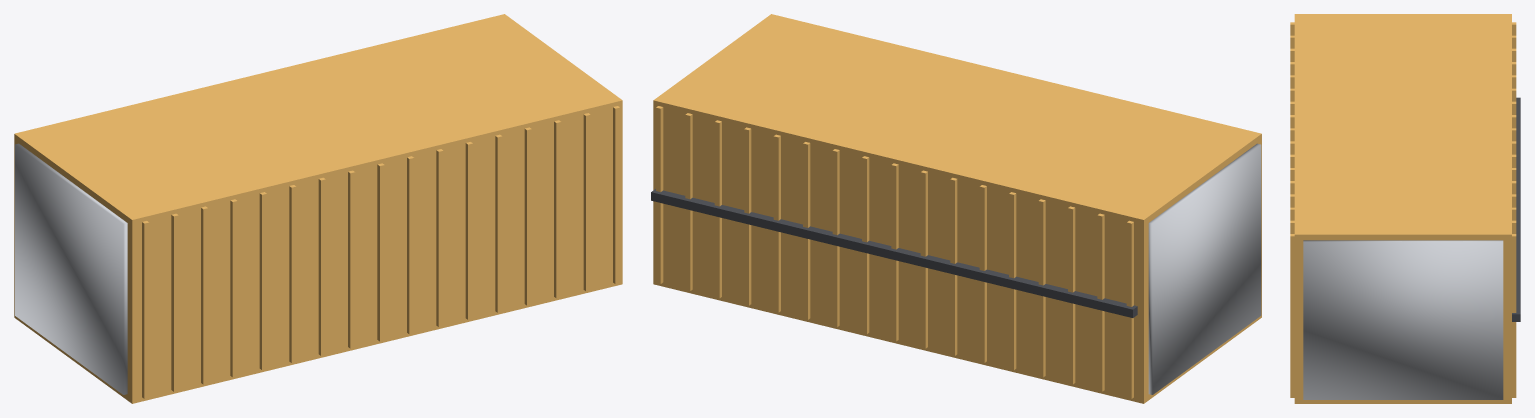
File: Container.fbx
3 renders of one model, left to right at view 1: azimuth 30°, elevation 25°; view 2: azimuth 150°, elevation 25°; view 3: azimuth 270°, elevation 25°, orthographic. The views are drawn at different scales.
Visible parts, largest first — view 1: Trim.001, Metal; view 2: Trim.001, Metal, Dark.007; view 3: Trim.001, Metal, Dark.007.
Part boxes in pixels (x1,y1,x2,y2): Trim.001: [14, 14, 622, 403]; Metal: [15, 143, 127, 394]; Trim.001: [653, 14, 1261, 403]; Metal: [1148, 143, 1261, 394]; Dark.007: [651, 189, 1137, 317]; Trim.001: [1290, 14, 1516, 403]; Metal: [1303, 240, 1503, 399]; Dark.007: [1512, 97, 1520, 321].
Bounding box in the file's own units: 12.2 × 4.3 × 5.3.
